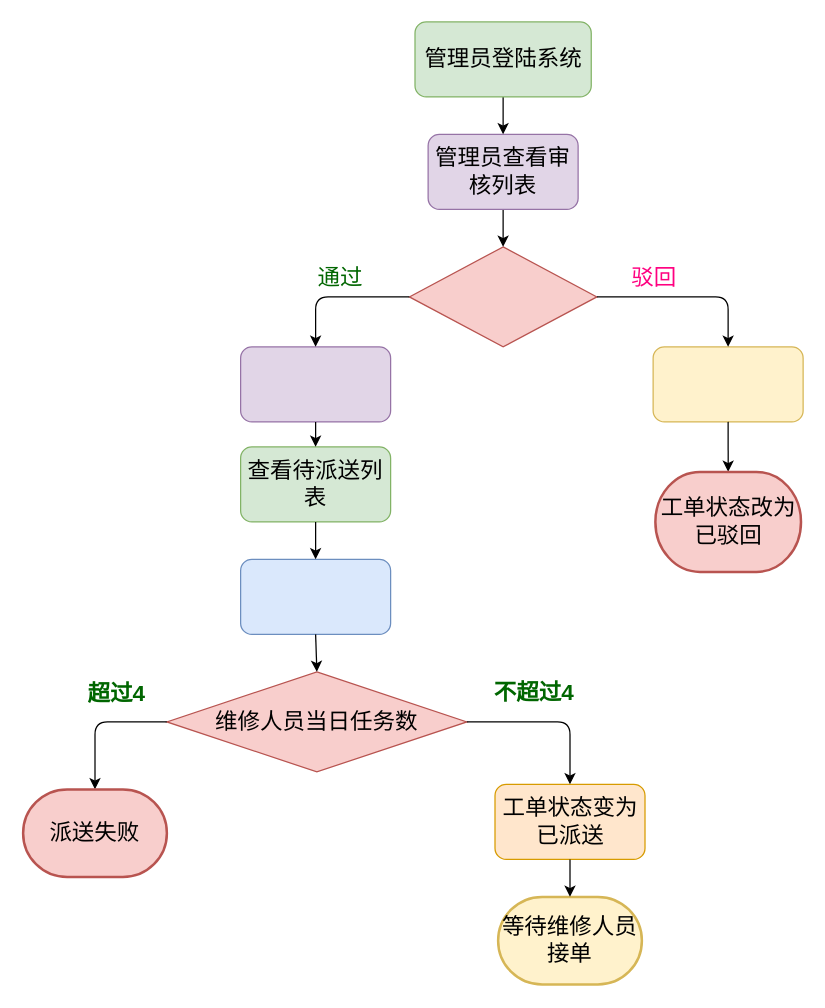
Image size: 825x1008. Some labels were removed from this diagram. The shapes that lost their labels are listed below. From the top down, each one's box as (x1, y1, x2, y2) in pixels, then its label:
(408, 246, 597, 347): 审核是否通过
(239, 346, 391, 422): 工单状态变为待派送
(652, 346, 803, 422): 填写驳回原因
(239, 558, 391, 634): 选择维修人员
